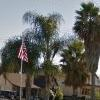Palm tree: (27, 7, 67, 94)
